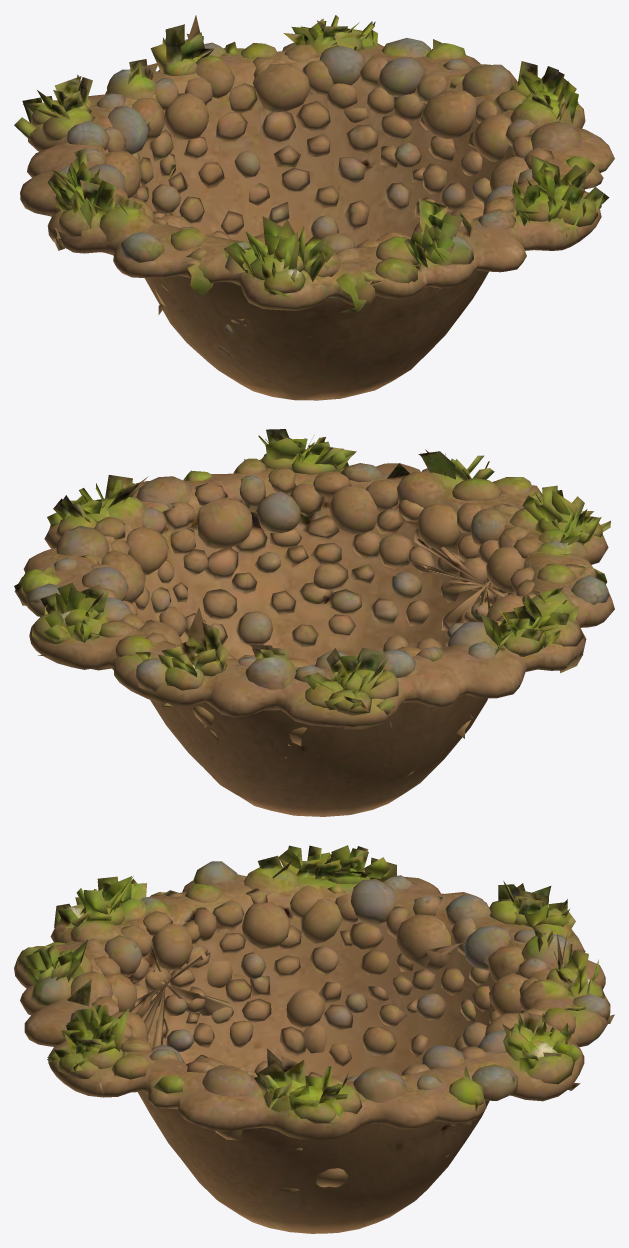
Rendered from pit-landmark-v3.glb.
3 views of the same model, one above another, from view 1: azimuth 30°, elevation 25°; view 2: azimuth 150°, elevation 25°; view 3: azimuth 270°, elevation 25° (orthographic).
Size of the model in its own units: 1 by 0.4854 by 0.9961.
Materials: 1 (1 with a texture image).
